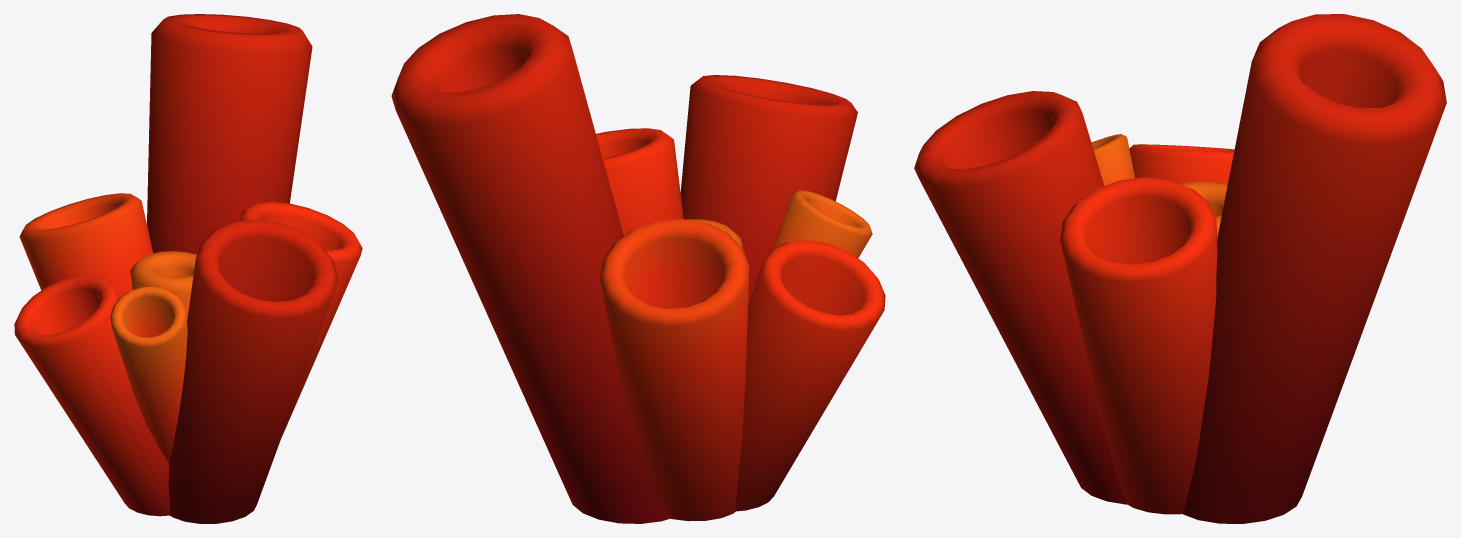
Rendered from Red_Coral_02.fbx.
3 views of the same model, side by side, from view 1: azimuth 30°, elevation 25°; view 2: azimuth 150°, elevation 25°; view 3: azimuth 270°, elevation 25° (orthographic). The views are drawn at different scales.
Parts seen in each view (by area): view 1: Red_Coral_02; view 2: Red_Coral_02; view 3: Red_Coral_02.
Boxes of the visible parts, bbox=[...] form: Red_Coral_02: bbox=[14, 14, 362, 523]; Red_Coral_02: bbox=[391, 14, 885, 523]; Red_Coral_02: bbox=[914, 14, 1446, 523].
Bounding box in the file's own units: 135 × 153 × 147.
